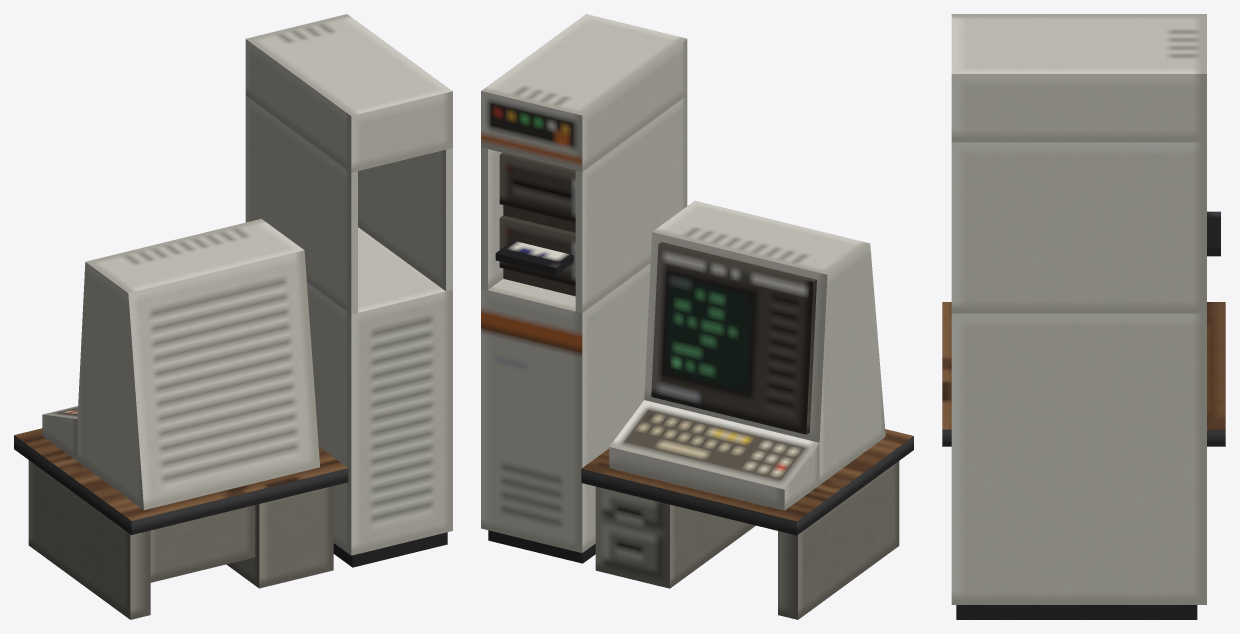
The model's file is era5_floppy_workstation.obj.
3 views of the same model, side by side, from view 1: azimuth 30°, elevation 25°; view 2: azimuth 150°, elevation 25°; view 3: azimuth 270°, elevation 25° (orthographic). The views are drawn at different scales.
Visible parts, largest first — view 1: era5_floppy_workstation; view 2: era5_floppy_workstation; view 3: era5_floppy_workstation.
Part boxes in pixels (left/top/right/bottom): era5_floppy_workstation: left=14, top=14, right=452, bottom=619; era5_floppy_workstation: left=481, top=14, right=913, bottom=619; era5_floppy_workstation: left=942, top=14, right=1225, bottom=619.
Size of the model in its own units: 3 by 4 by 1.88.
